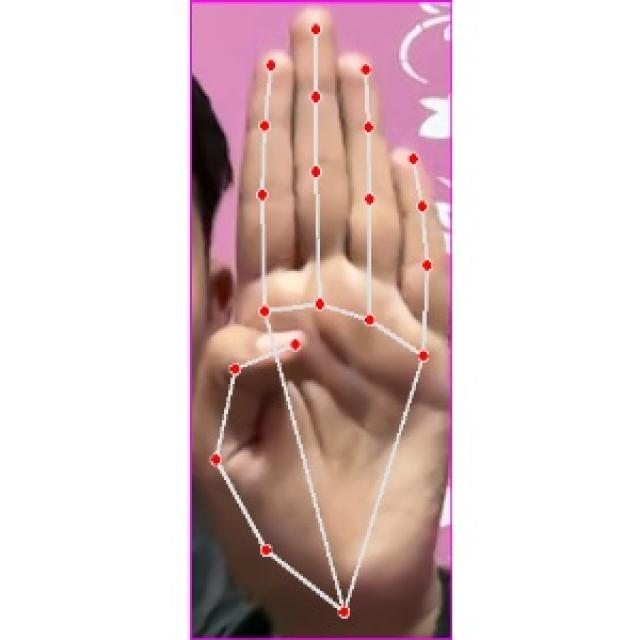B: (194, 2, 454, 640)
